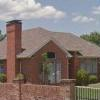Chimney: (1, 13, 30, 68)
